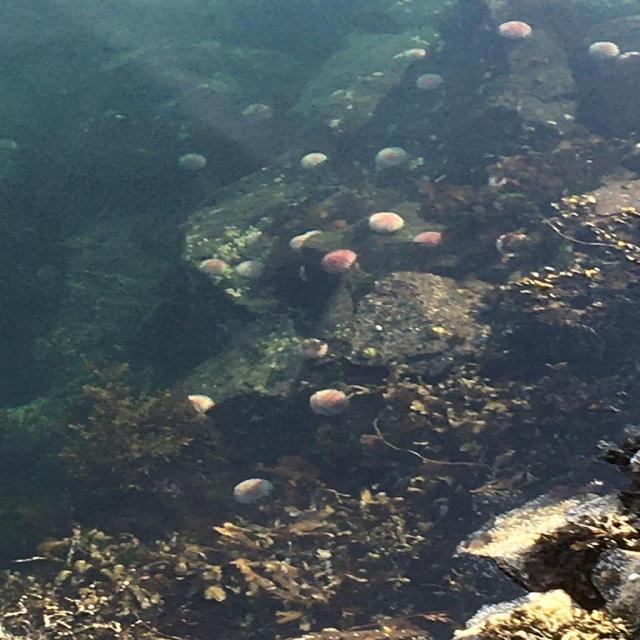Deniz Kestanesi: (309, 389, 350, 416), (235, 478, 273, 506), (320, 248, 356, 275), (368, 212, 404, 234), (496, 233, 527, 257), (496, 20, 532, 40), (376, 146, 406, 168), (288, 230, 322, 248), (242, 103, 270, 124), (588, 41, 620, 59), (188, 394, 215, 413), (237, 260, 265, 278), (300, 152, 328, 170), (179, 154, 206, 172), (303, 339, 327, 359), (200, 259, 228, 275), (417, 74, 442, 89), (412, 232, 441, 244), (406, 48, 426, 62), (618, 51, 640, 62), (0, 137, 16, 150)
